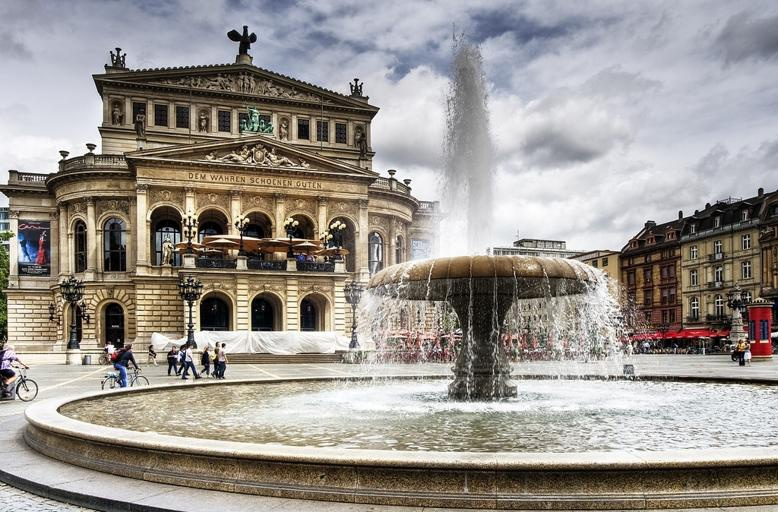non-vehicle: (0, 364, 40, 401), (98, 366, 149, 391)
